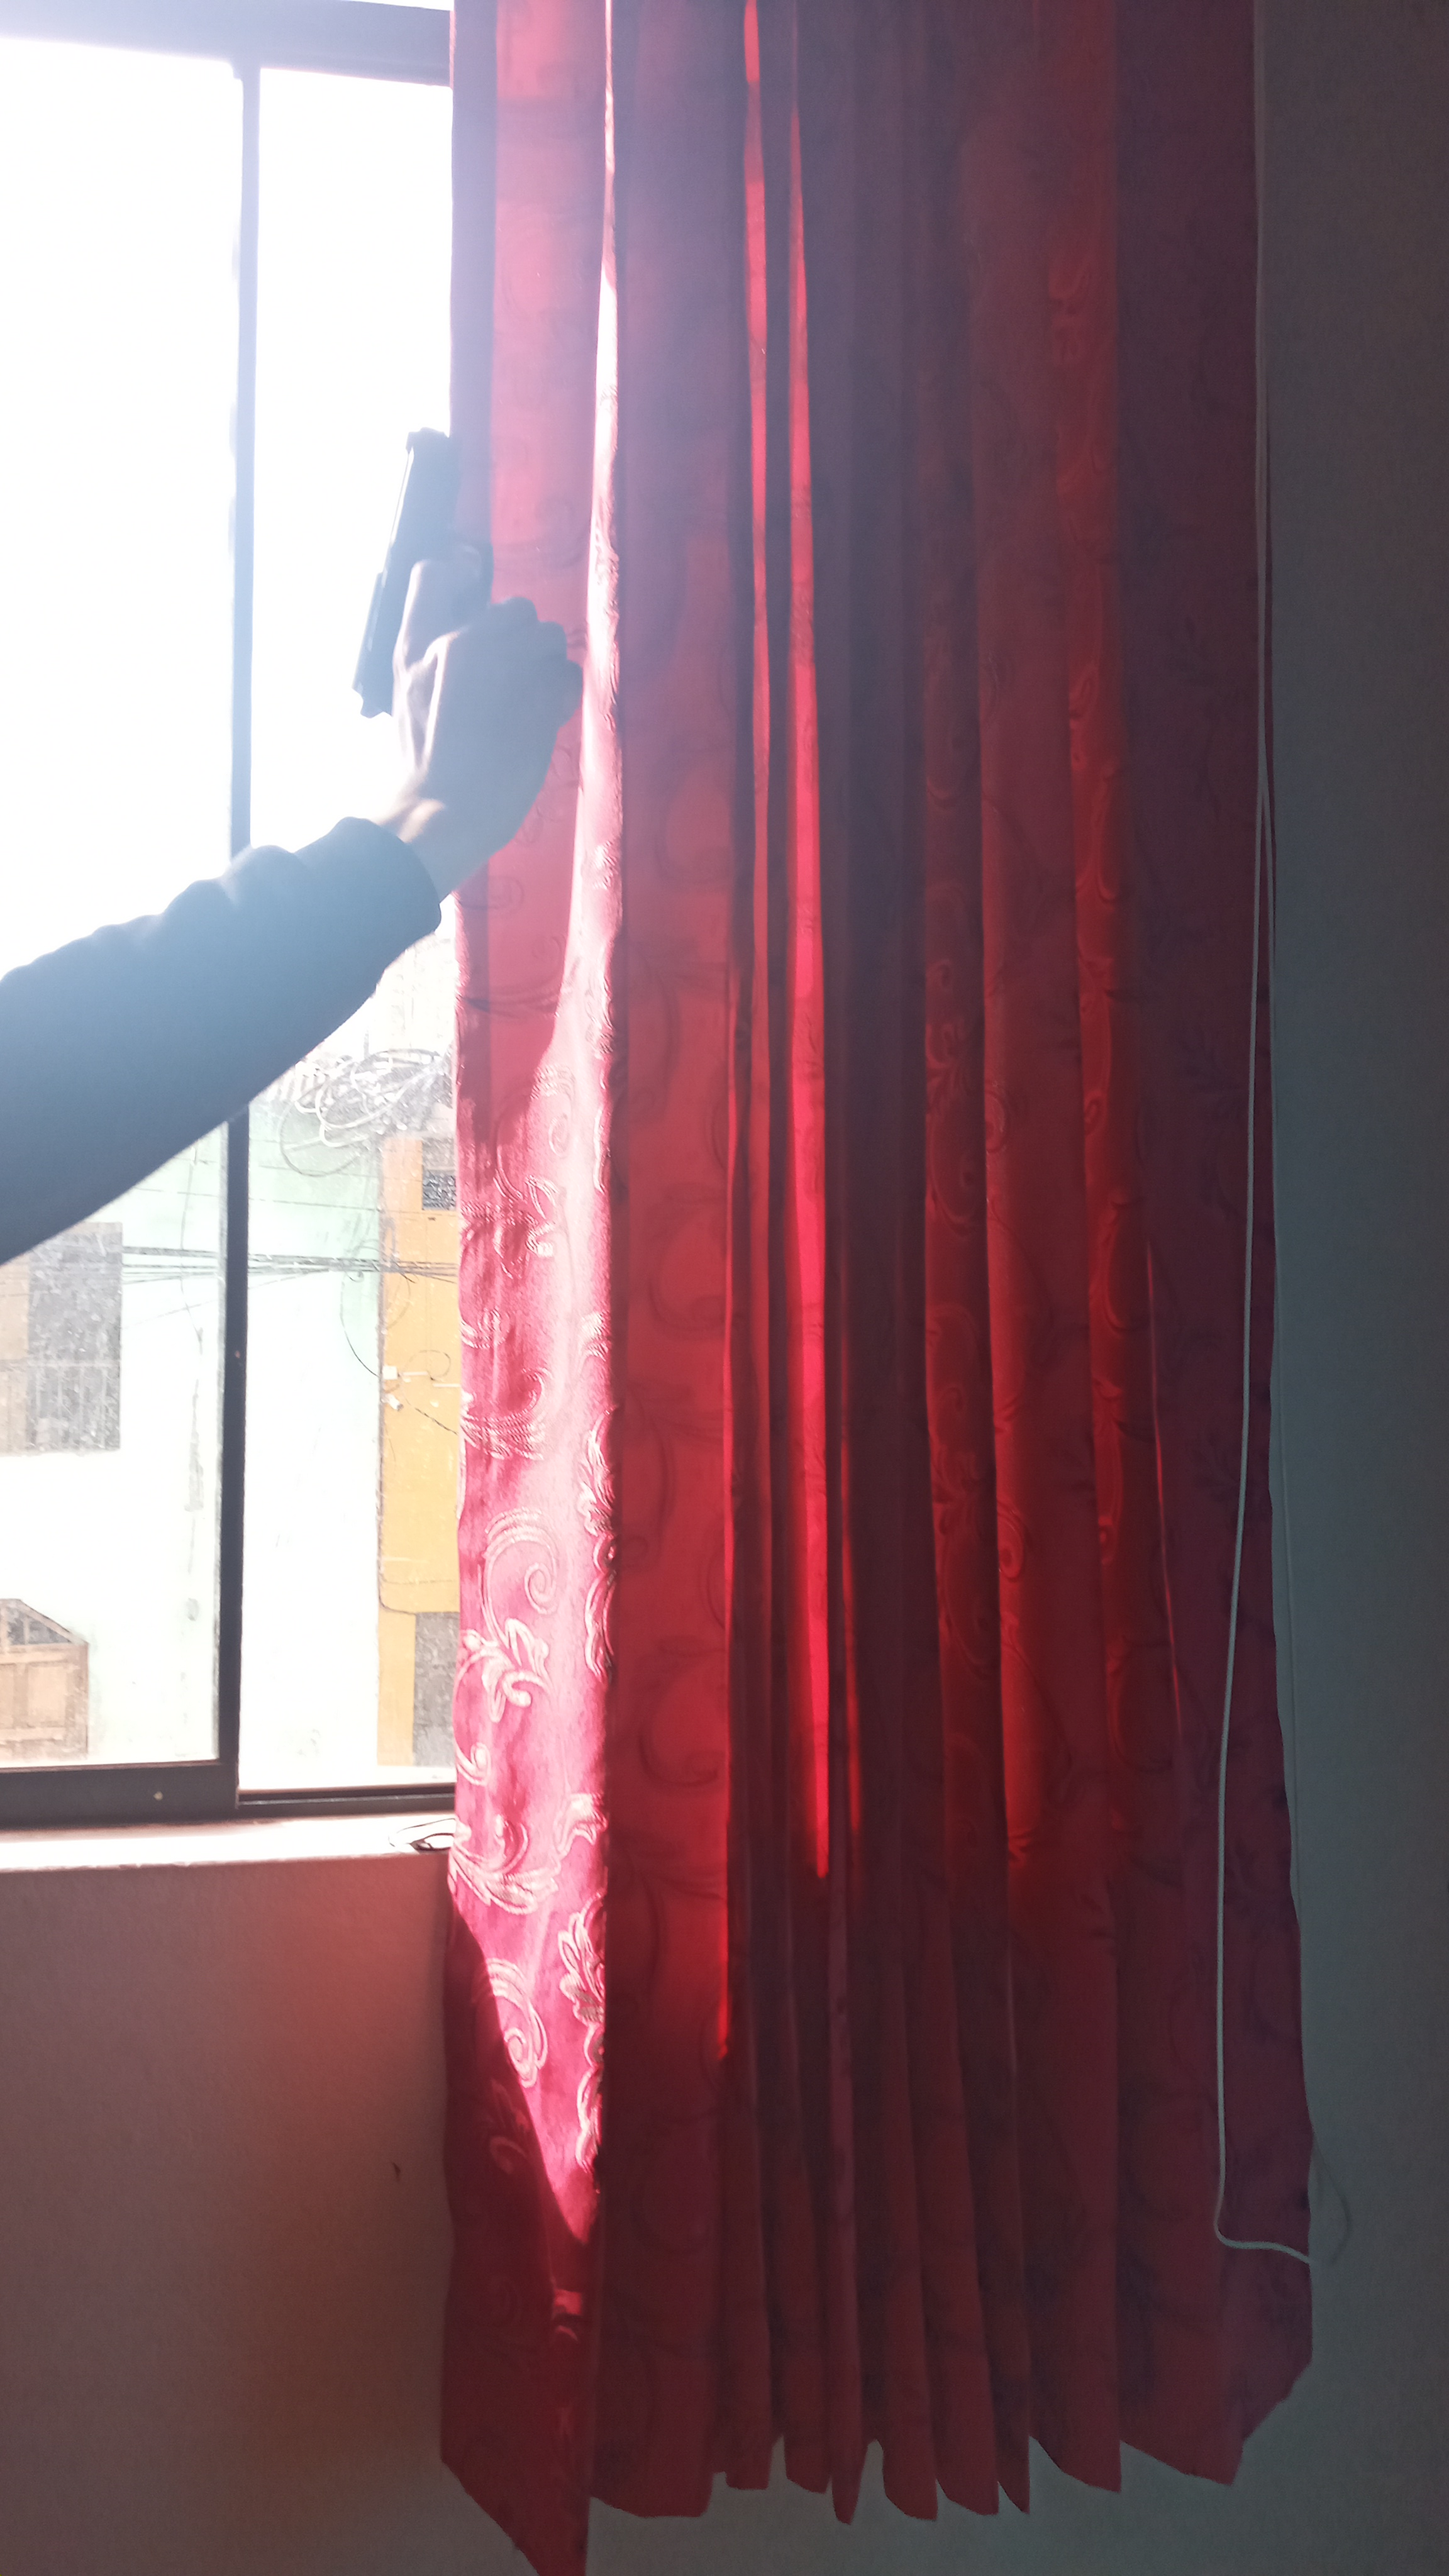Arma: (341, 426, 474, 750)
